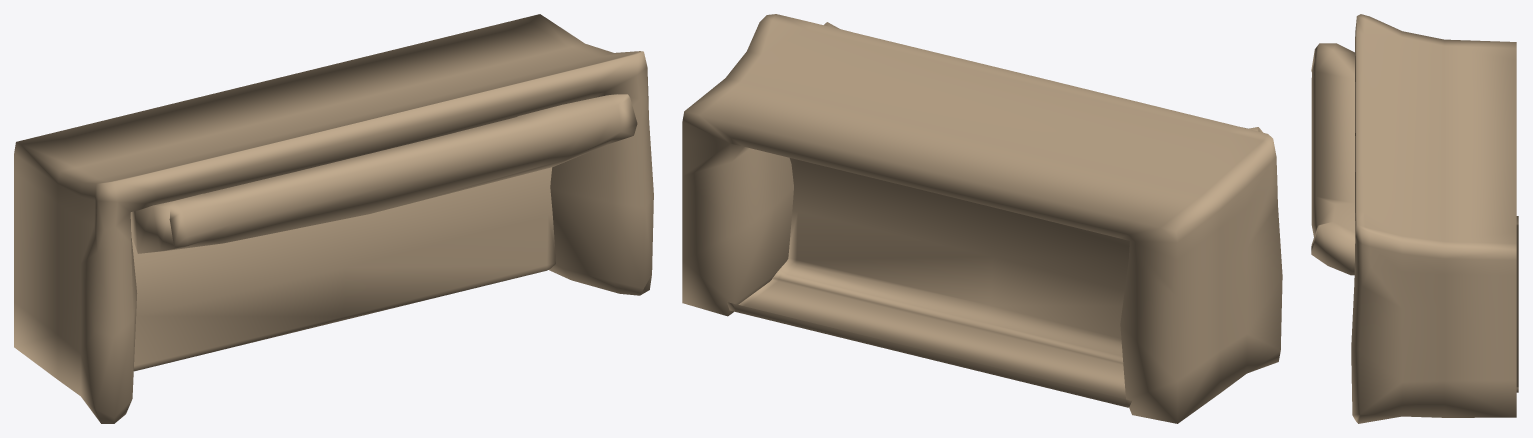
The model's file is Fp216_Sofa1Sofa_216_0.obj.
3 renders of one model, left to right at view 1: azimuth 30°, elevation 25°; view 2: azimuth 150°, elevation 25°; view 3: azimuth 270°, elevation 25°, orthographic. The views are drawn at different scales.
Visible parts, largest first — view 1: Sofa_216; view 2: Sofa_216; view 3: Sofa_216.
Boxes of the visible parts, <box> form: Sofa_216: <box>14,14,653,423</box>; Sofa_216: <box>682,14,1282,423</box>; Sofa_216: <box>1311,14,1518,423</box>.
Bounding box in the file's own units: 2.53 × 1.05 × 1.
